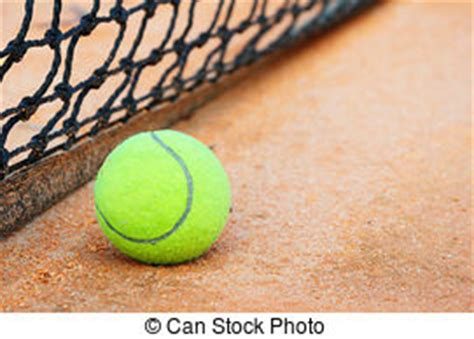tennis_ball: (93, 127, 232, 264)
